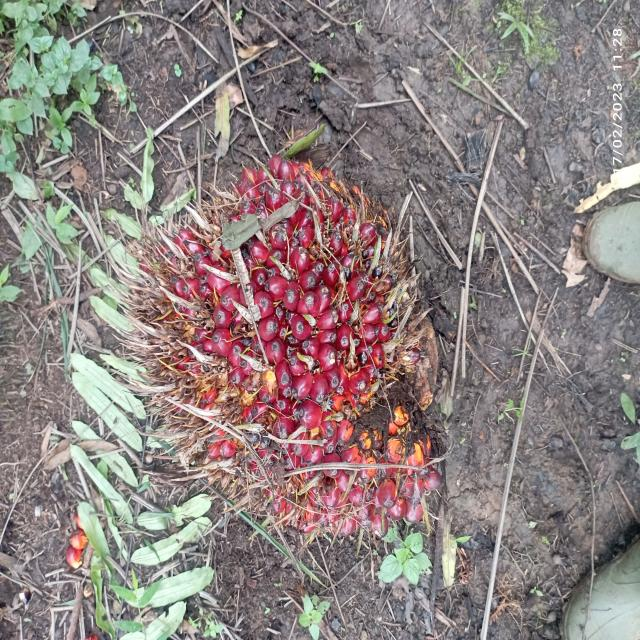fraksi 3: (104, 144, 471, 570)
